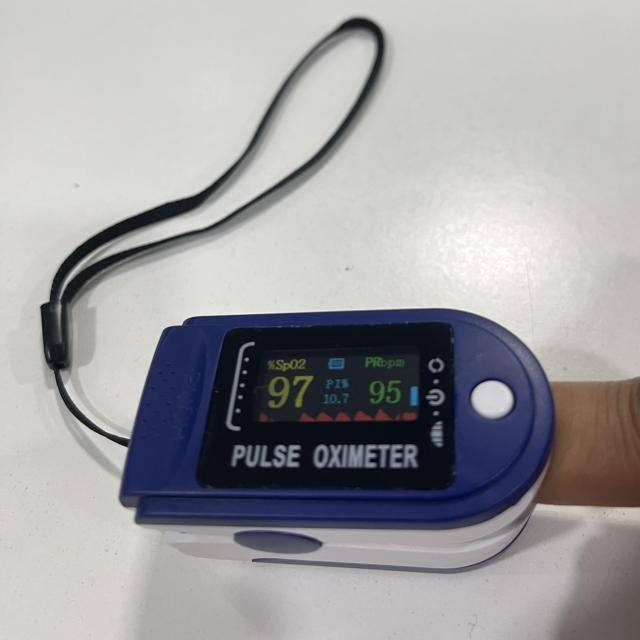spo2: (120, 311, 554, 568)
